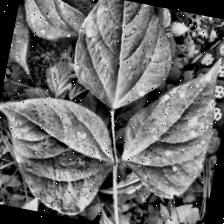Bean Rust: (0, 88, 121, 219), (113, 58, 222, 203), (63, 0, 179, 122), (15, 0, 96, 47), (5, 0, 48, 77)
